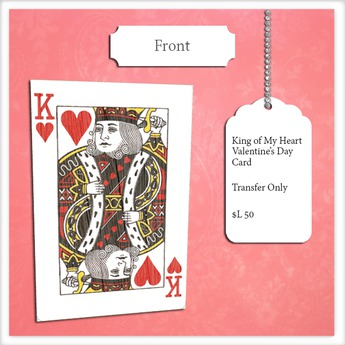king of hearts: (27, 78, 189, 321)
